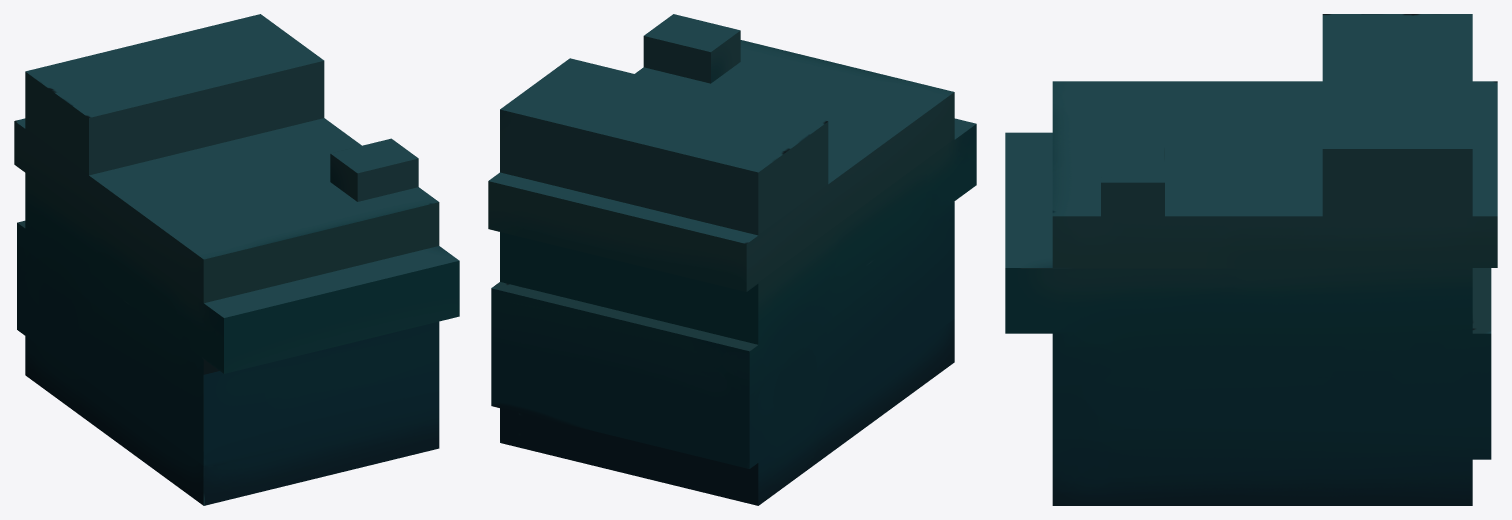
The model's file is Arbusto 3.obj.
The picture shows the model from 3 angles, left to right: view 1: azimuth 30°, elevation 25°; view 2: azimuth 150°, elevation 25°; view 3: azimuth 270°, elevation 25°; orthographic projection. The views are drawn at different scales.
Parts seen in each view (by area): view 1: Arbusto 3; view 2: Arbusto 3; view 3: Arbusto 3.
Boxes of the visible parts, x1,y1,x2,y2 form: Arbusto 3: [14, 14, 459, 505]; Arbusto 3: [488, 14, 976, 505]; Arbusto 3: [1005, 14, 1497, 505].
Bounding box in the file's own units: 0.7444 × 0.9177 × 1.15.
Materials: 1 (1 with a texture image).
